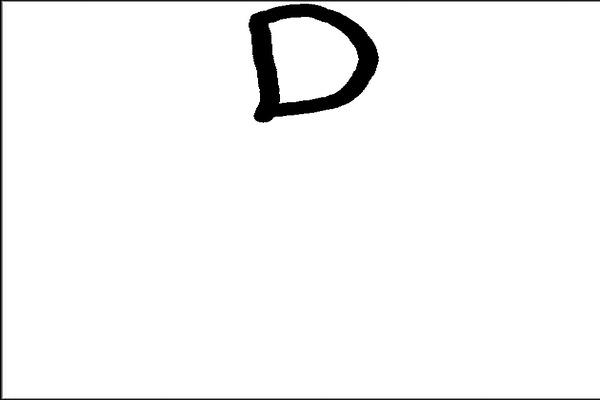D: (241, 2, 382, 127)
